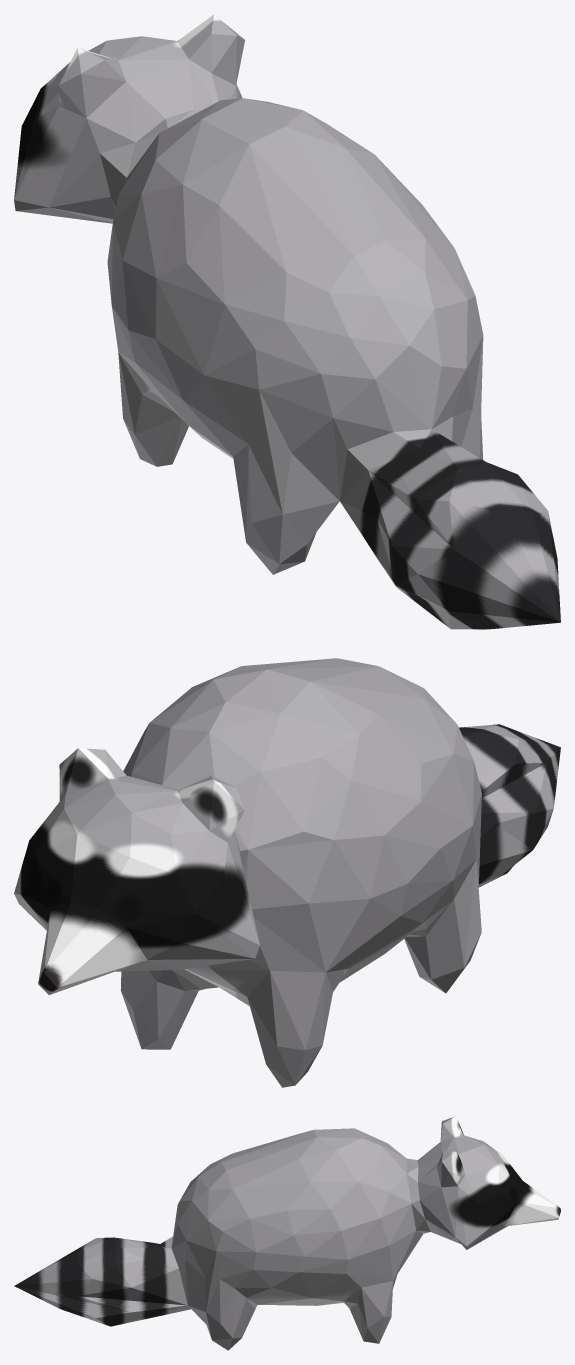
The model's file is animal_raccoon_blob.obj.
3 renders of one model, top to bottom at view 1: azimuth 30°, elevation 25°; view 2: azimuth 150°, elevation 25°; view 3: azimuth 270°, elevation 25°, orthographic. The views are drawn at different scales.
Visible parts, largest first — view 1: animal_raccoon_blob; view 2: animal_raccoon_blob; view 3: animal_raccoon_blob.
Boxes of the visible parts, x1,y1,x2,y2 form: animal_raccoon_blob: [14, 14, 560, 629]; animal_raccoon_blob: [14, 658, 560, 1087]; animal_raccoon_blob: [14, 1116, 560, 1350].
Size of the model in its own units: 0.3826 by 0.4673 by 1.19.
